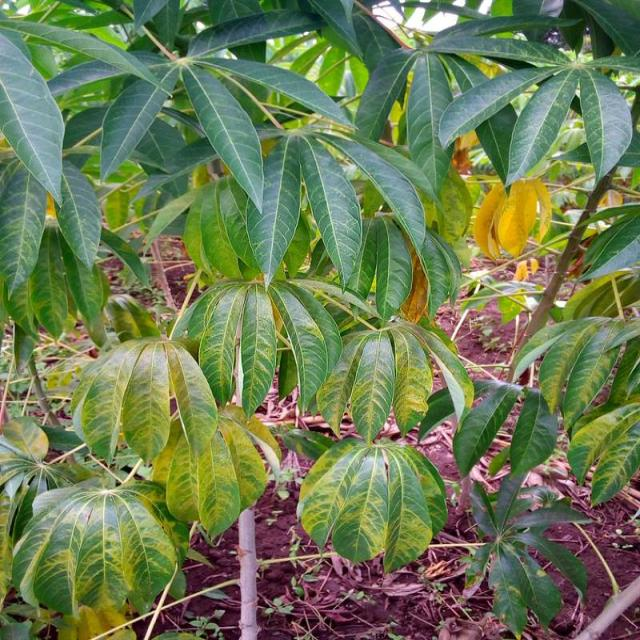cassava leaf: (0, 1, 638, 635), (10, 477, 182, 621)
